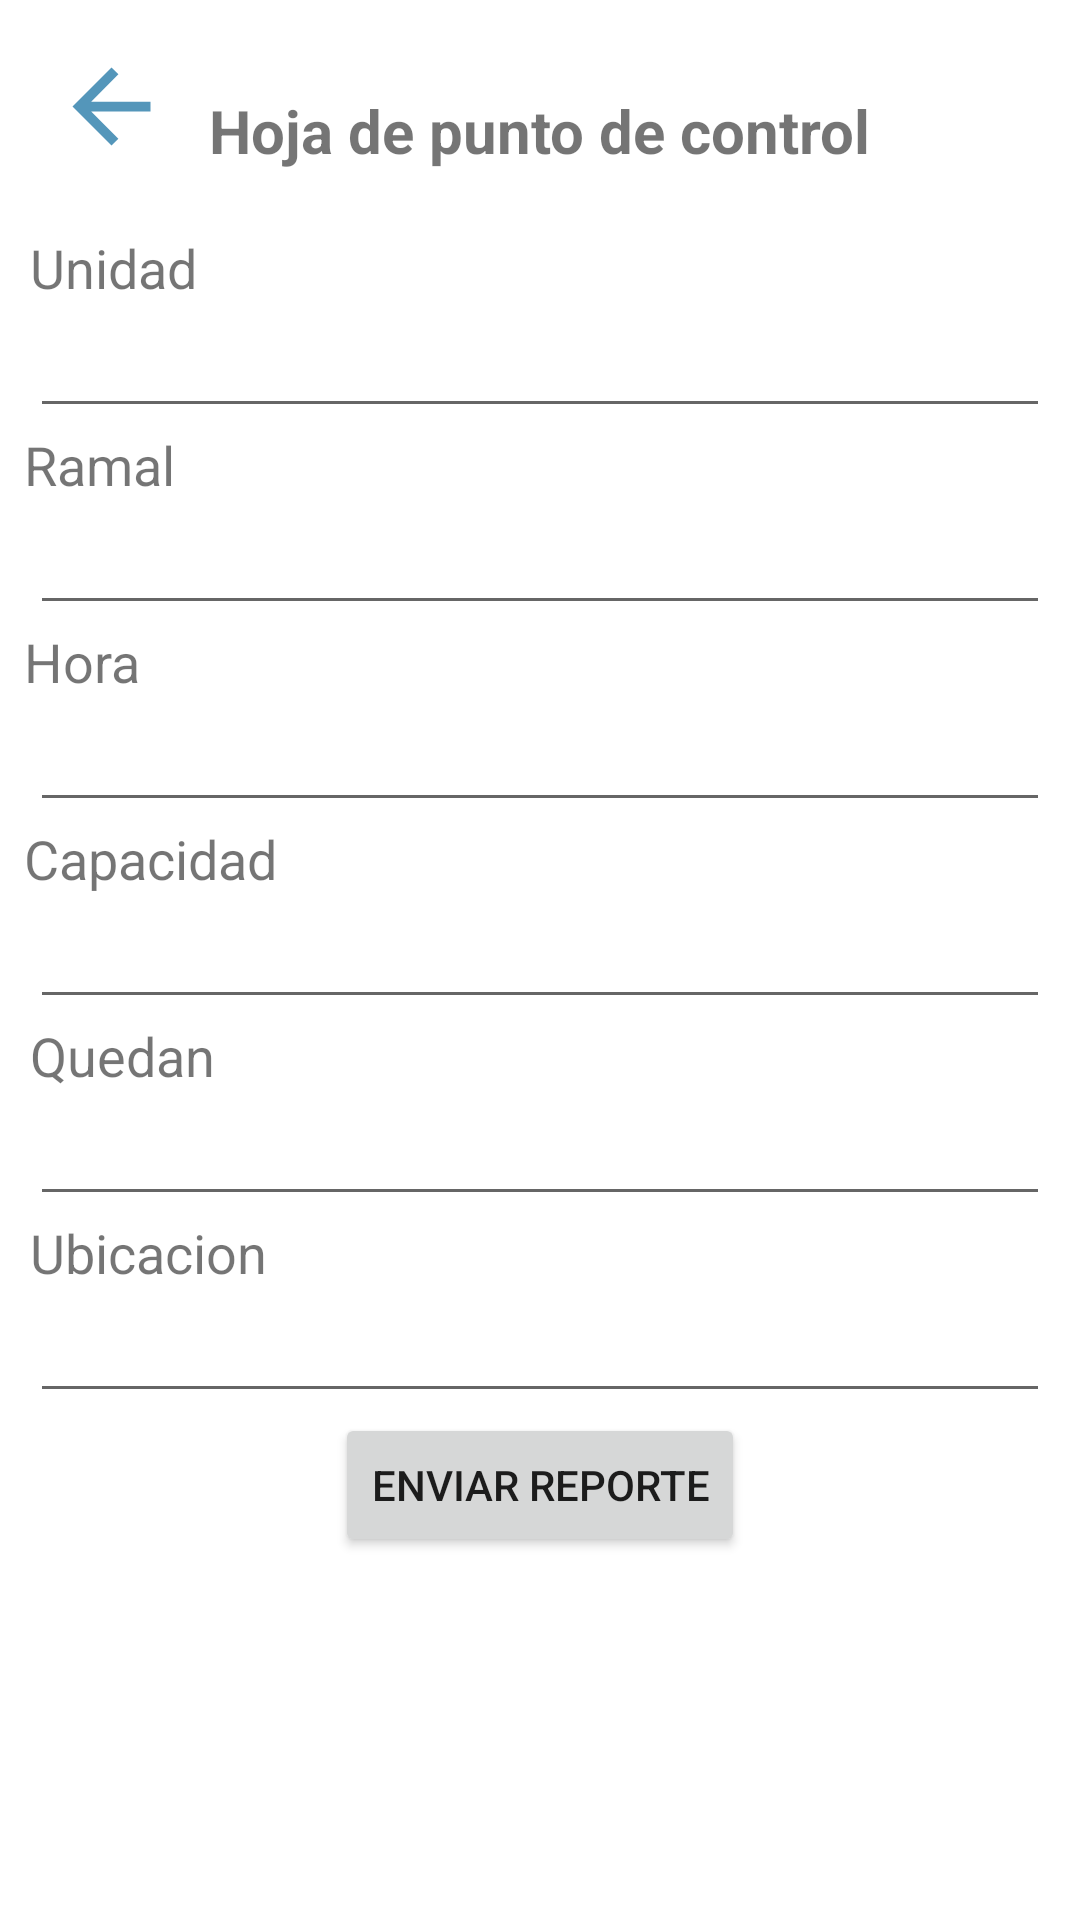

Icon bounding boxes for this 1080x1920 phone screenshot, format [x1, y1, x2, y2]:
arrow: [72, 67, 151, 146]
